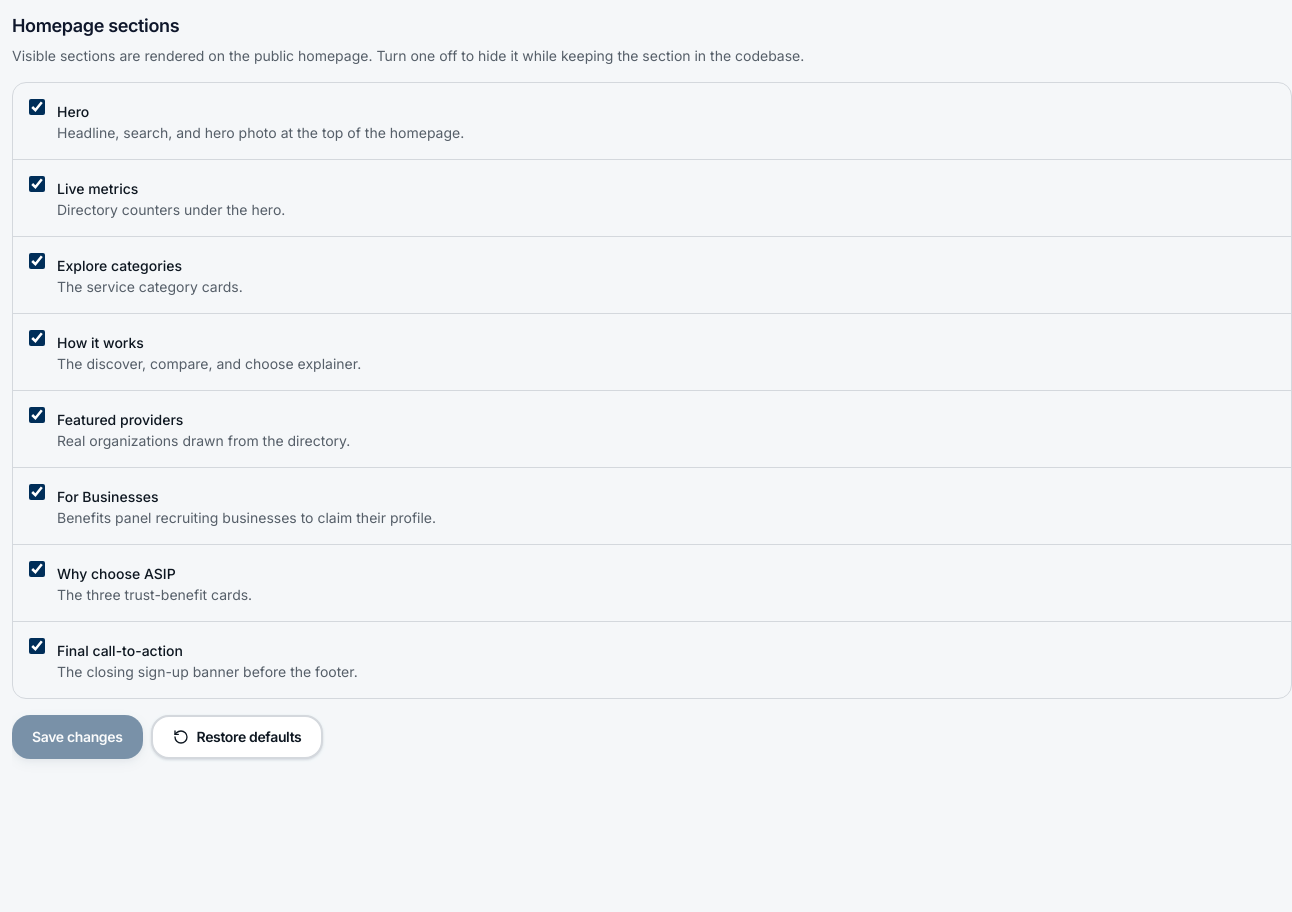
Test case: AdminHomepageSettings › sends only the toggled sections on save
Click the checkbox labelled "Hero".
click(37, 107)  # box left=29, top=99, right=45, bottom=115
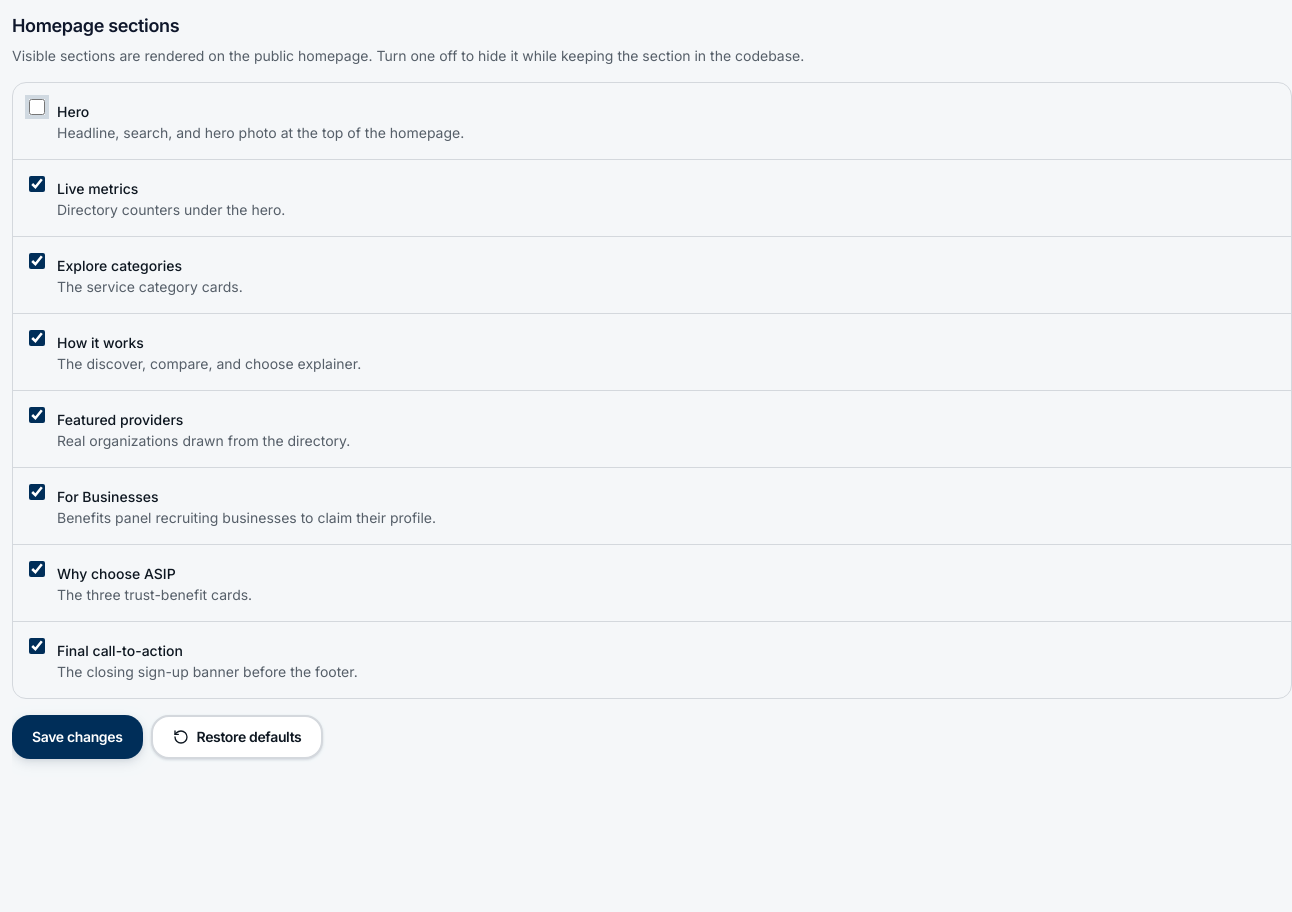
Click the button "Save changes".
click(77, 737)  # box left=12, top=715, right=142, bottom=759
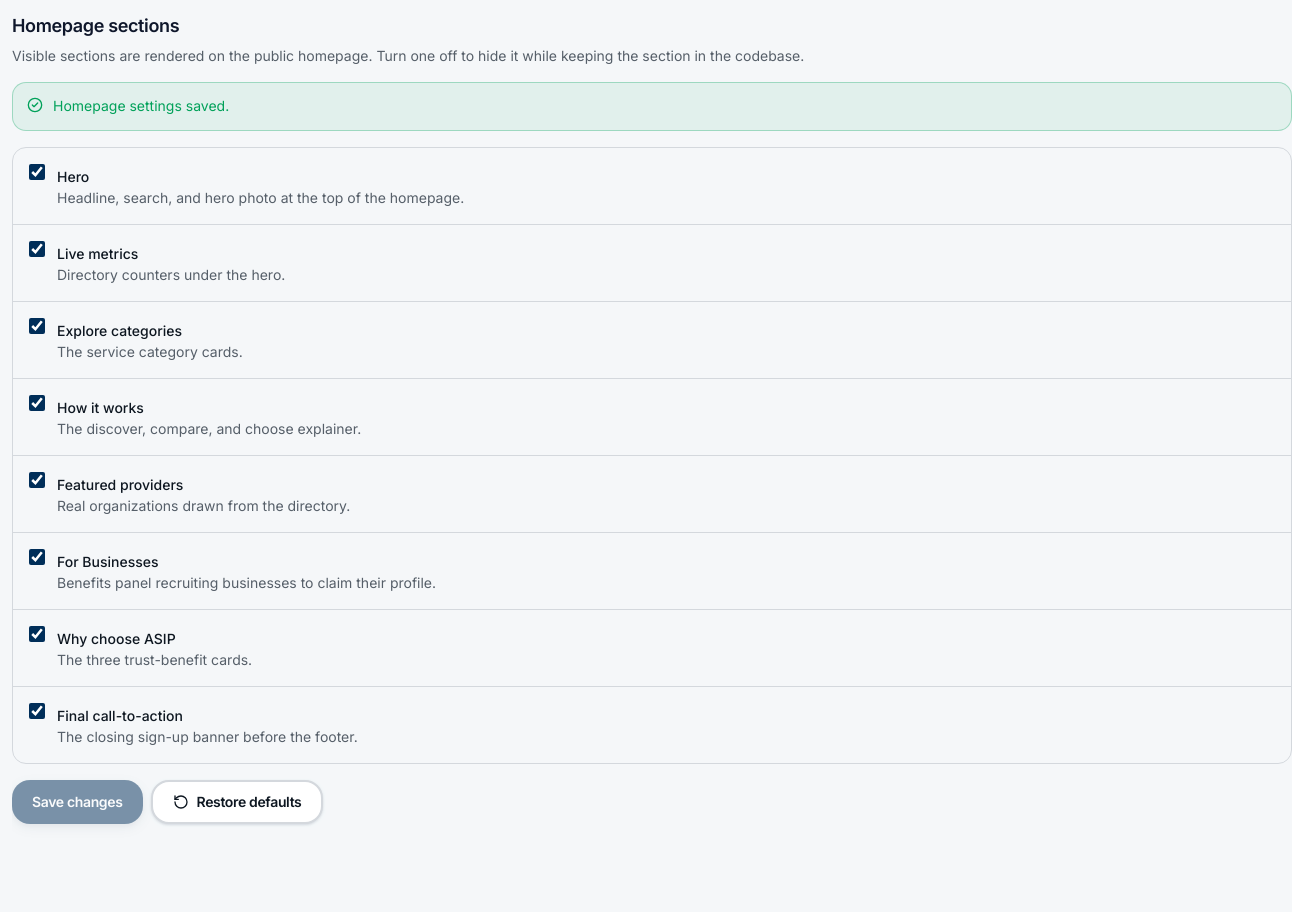
Check: the text "Homepage settings saved." is shown, box left=53, top=95, right=229, bottom=118
